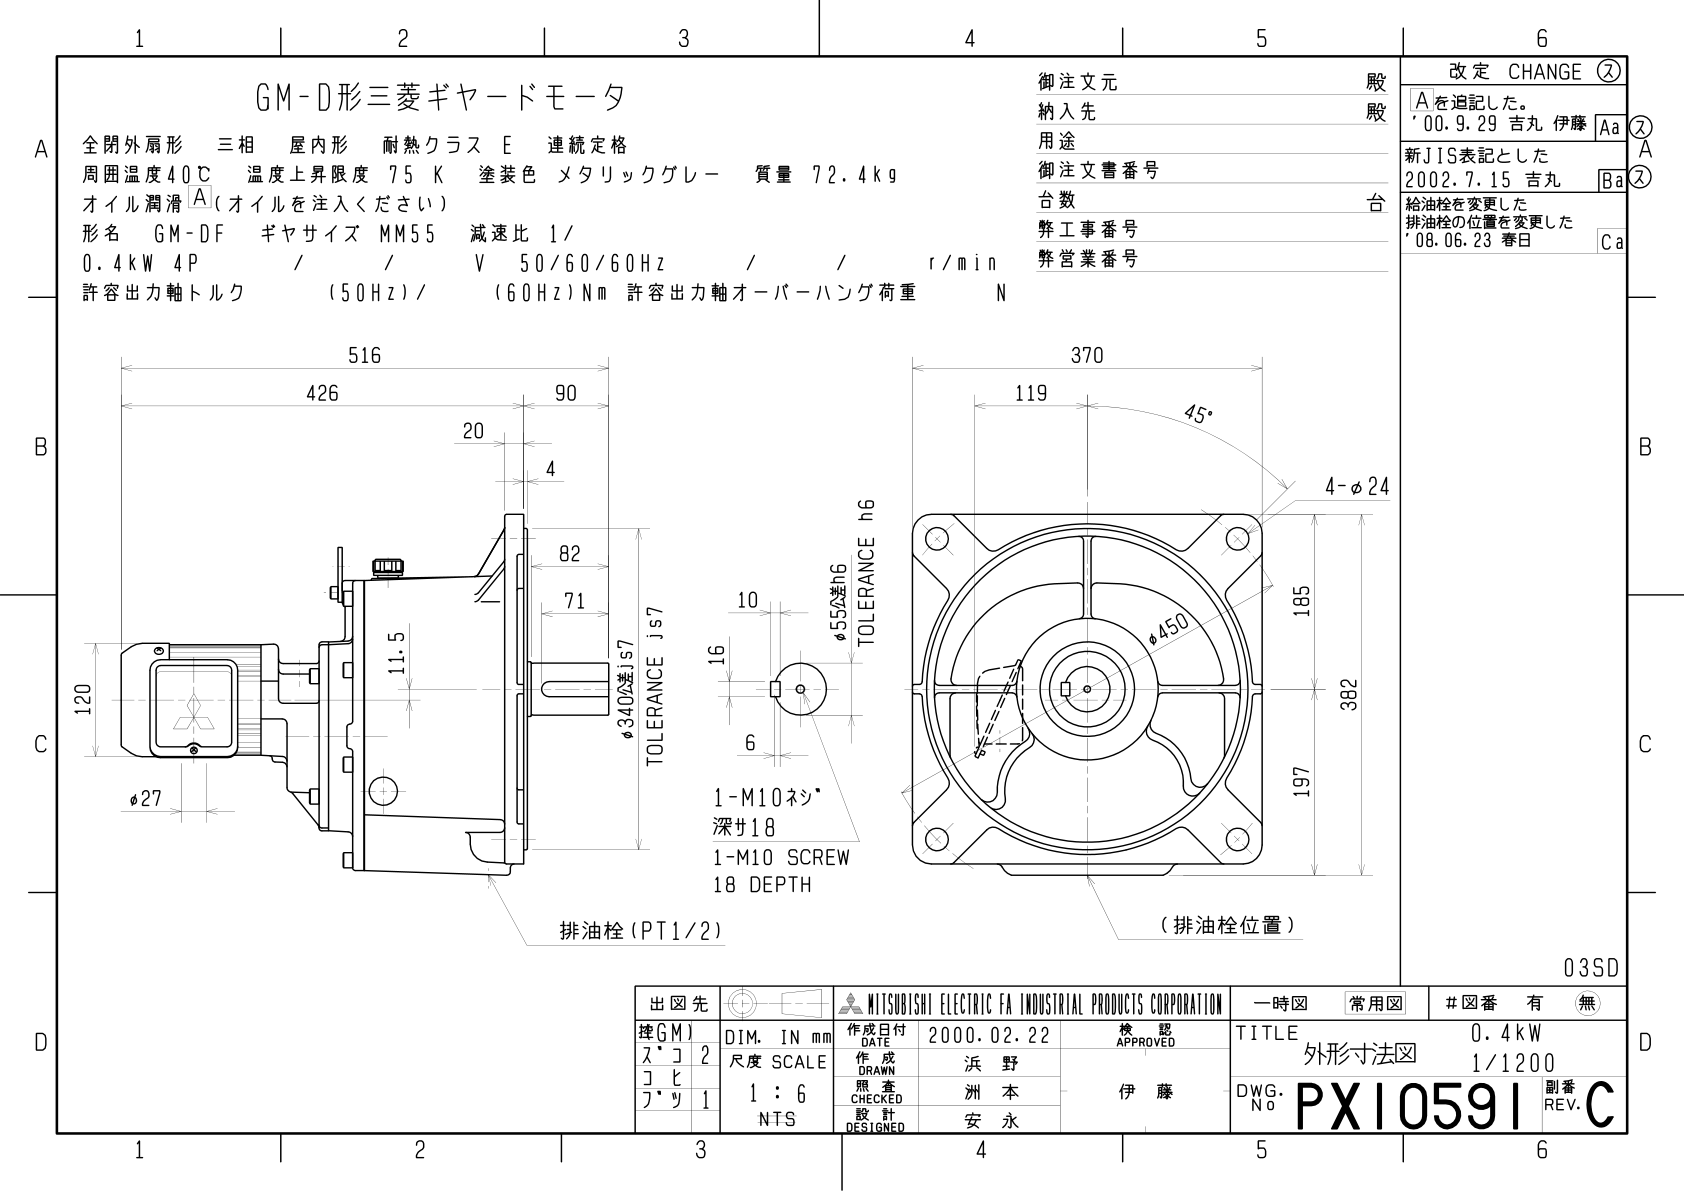GM_D_屋内＿三相_フランジ: (61, 316, 1392, 963)
